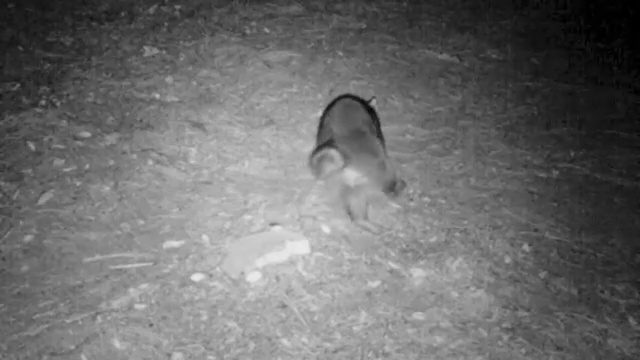raccoon: (305, 82, 415, 224)
